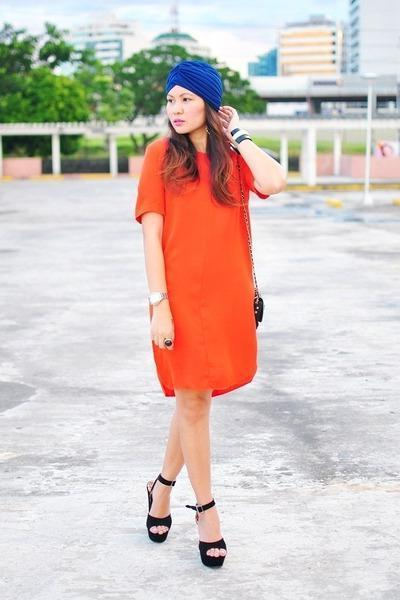dress: (137, 131, 261, 398)
